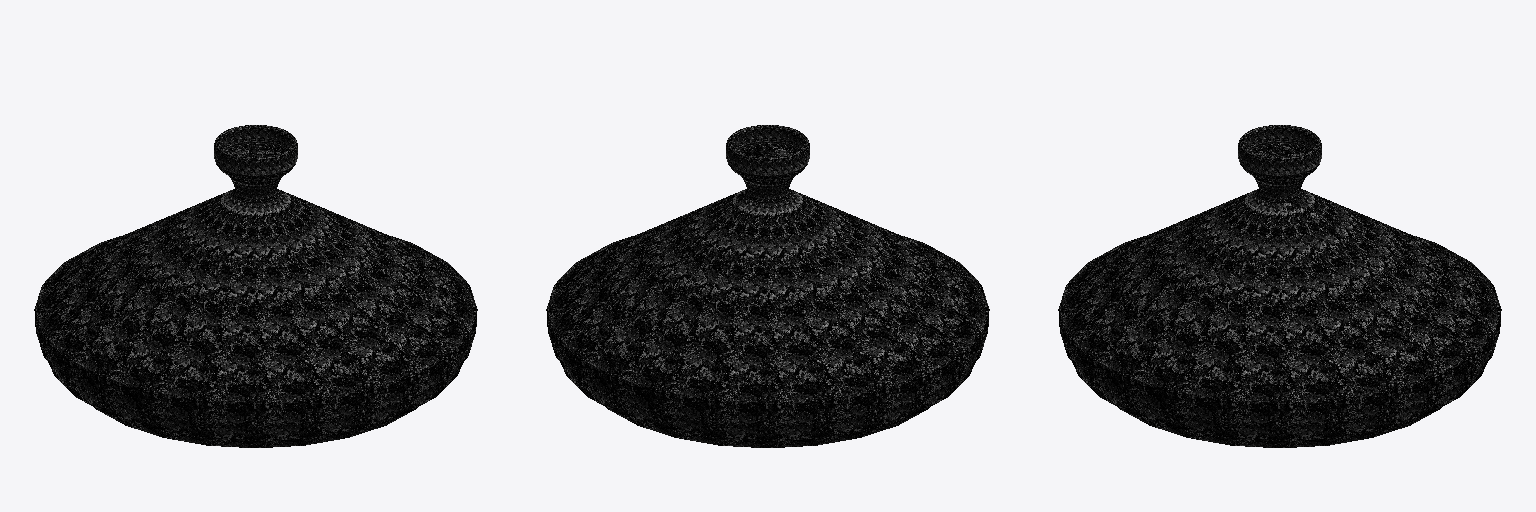
3 views of the same model, side by side, from view 1: azimuth 30°, elevation 25°; view 2: azimuth 150°, elevation 25°; view 3: azimuth 270°, elevation 25° (orthographic).
Parts seen in each view (by area): view 1: Mesh1 Le_plus_grand_tagine_du_monde___Safi_Maroc1 Model; view 2: Mesh1 Le_plus_grand_tagine_du_monde___Safi_Maroc1 Model; view 3: Mesh1 Le_plus_grand_tagine_du_monde___Safi_Maroc1 Model.
Boxes of the visible parts, x1,y1,x2,y2 form: Mesh1 Le_plus_grand_tagine_du_monde___Safi_Maroc1 Model: [34, 125, 477, 447]; Mesh1 Le_plus_grand_tagine_du_monde___Safi_Maroc1 Model: [546, 125, 989, 447]; Mesh1 Le_plus_grand_tagine_du_monde___Safi_Maroc1 Model: [1058, 125, 1501, 447].
Size of the model in its own units: 251 by 143 by 251.
2 materials, 1 textured.